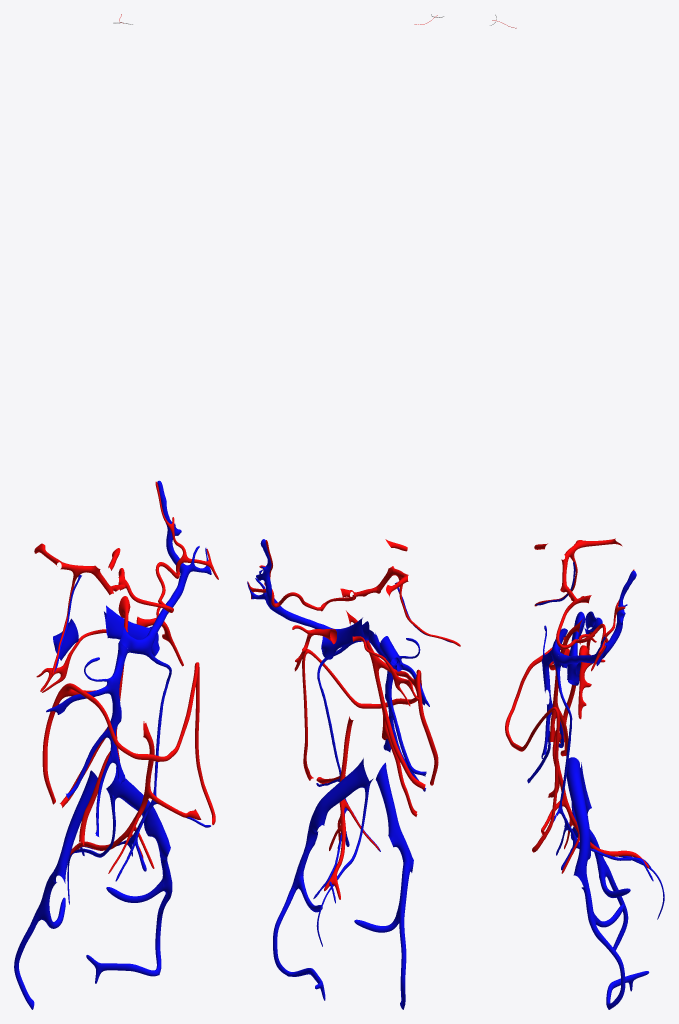
File: female-a-organ-11.glb
The picture shows the model from 3 angles, left to right: view 1: azimuth 30°, elevation 25°; view 2: azimuth 150°, elevation 25°; view 3: azimuth 270°, elevation 25°; orthographic projection. The views are drawn at different scales.
Parts seen in each view (by area): view 1: VH_F_marginal_artery_of_Drummond, VH_F_splenic_vein, VH_F_left_common_iliac_vein, VH_F_right_common_iliac_vein, VH_F_splenic_artery, VH_F_superior_mesenteric_vein, VH_F_left_renal_vein, VH_F_inferior_mesenteric_vein, VH_F_inferior_mesenteric_artery, VH_F_internal_pudendal_vein_R, VH_F_inferior_rectal_vein_L, VH_F_right_renal_artery (+1 smaller); view 2: VH_F_marginal_artery_of_Drummond, VH_F_left_common_iliac_vein, VH_F_right_common_iliac_vein, VH_F_splenic_vein, VH_F_left_renal_vein, VH_F_splenic_artery, VH_F_superior_mesenteric_artery, VH_F_superior_mesenteric_vein, VH_F_internal_pudendal_vein_R, VH_F_internal_pudendal_vein_L, VH_F_inferior_mesenteric_artery, VH_F_inferior_mesenteric_vein (+1 smaller); view 3: VH_F_left_common_iliac_vein, VH_F_marginal_artery_of_Drummond, VH_F_splenic_vein, VH_F_splenic_artery, VH_F_inferior_mesenteric_vein, VH_F_left_renal_vein, VH_F_superior_mesenteric_vein, VH_F_internal_pudendal_vein_L, VH_F_superior_mesenteric_artery, VH_F_left_renal_artery, VH_F_inferior_mesenteric_artery.
Boxes of the visible parts, x1=… form: VH_F_marginal_artery_of_Drummond: x1=42, y1=662, x2=215, y2=824; VH_F_splenic_vein: x1=119, y1=480, x2=211, y2=656; VH_F_left_common_iliac_vein: x1=106, y1=766, x2=170, y2=860; VH_F_right_common_iliac_vein: x1=52, y1=770, x2=97, y2=883; VH_F_splenic_artery: x1=126, y1=481, x2=218, y2=612; VH_F_superior_mesenteric_vein: x1=107, y1=643, x2=127, y2=784; VH_F_left_renal_vein: x1=104, y1=605, x2=159, y2=656; VH_F_inferior_mesenteric_vein: x1=122, y1=653, x2=171, y2=850; VH_F_inferior_mesenteric_artery: x1=123, y1=721, x2=154, y2=837; VH_F_internal_pudendal_vein_R: x1=14, y1=912, x2=41, y2=1009; VH_F_inferior_rectal_vein_L: x1=86, y1=955, x2=158, y2=983; VH_F_right_renal_artery: x1=36, y1=629, x2=106, y2=692; VH_F_marginal_artery_of_Drummond: x1=302, y1=649, x2=438, y2=785; VH_F_left_common_iliac_vein: x1=304, y1=758, x2=369, y2=849; VH_F_right_common_iliac_vein: x1=375, y1=762, x2=413, y2=872; VH_F_splenic_vein: x1=247, y1=539, x2=375, y2=645; VH_F_left_renal_vein: x1=321, y1=617, x2=369, y2=659; VH_F_splenic_artery: x1=247, y1=540, x2=356, y2=611; VH_F_superior_mesenteric_artery: x1=346, y1=610, x2=388, y2=740; VH_F_superior_mesenteric_vein: x1=370, y1=634, x2=394, y2=752; VH_F_internal_pudendal_vein_R: x1=399, y1=916, x2=406, y2=1009; VH_F_internal_pudendal_vein_L: x1=273, y1=886, x2=296, y2=975; VH_F_inferior_mesenteric_artery: x1=339, y1=716, x2=353, y2=831; VH_F_inferior_mesenteric_vein: x1=317, y1=645, x2=348, y2=840; VH_F_left_common_iliac_vein: x1=566, y1=757, x2=590, y2=887; VH_F_marginal_artery_of_Drummond: x1=505, y1=647, x2=575, y2=852; VH_F_splenic_vein: x1=551, y1=570, x2=636, y2=668; VH_F_splenic_artery: x1=556, y1=569, x2=634, y2=671; VH_F_inferior_mesenteric_vein: x1=556, y1=668, x2=590, y2=849; VH_F_left_renal_vein: x1=567, y1=611, x2=585, y2=685; VH_F_superior_mesenteric_vein: x1=541, y1=644, x2=553, y2=758; VH_F_internal_pudendal_vein_L: x1=592, y1=926, x2=625, y2=1009; VH_F_superior_mesenteric_artery: x1=549, y1=618, x2=583, y2=741; VH_F_left_renal_artery: x1=578, y1=645, x2=605, y2=719; VH_F_inferior_mesenteric_artery: x1=552, y1=728, x2=579, y2=834.
Size of the model in its own units: 0.1594 by 0.7949 by 0.1328.
